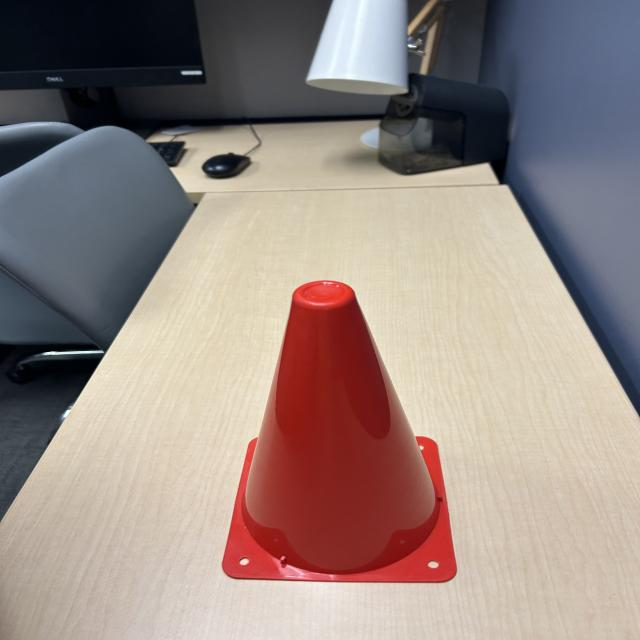orange cone: (215, 279, 460, 586)
